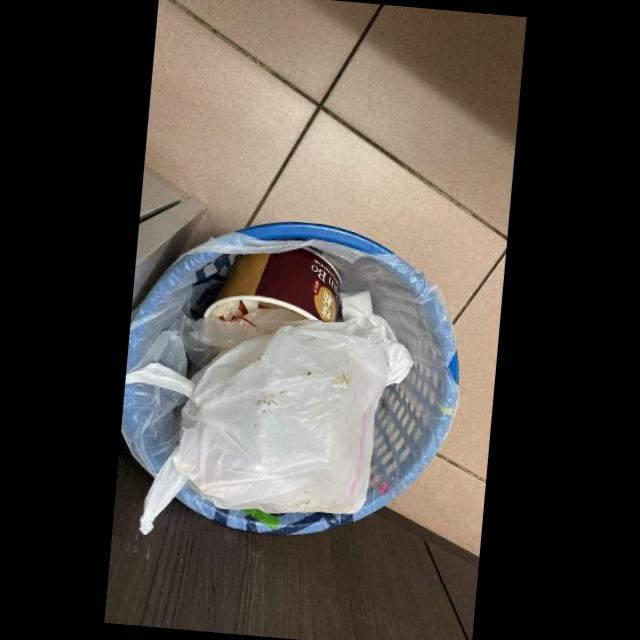carton: (202, 248, 340, 323)
tui_ni_long: (128, 291, 410, 531), (176, 310, 301, 367)
